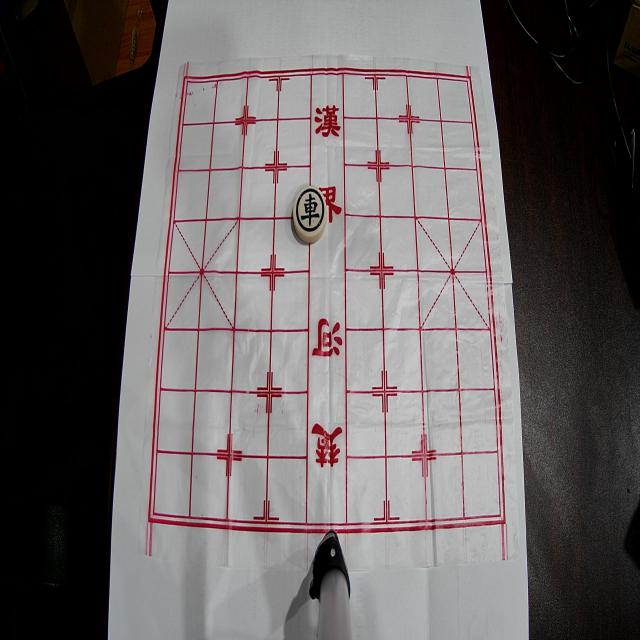black-chariot: (293, 185, 327, 243)
